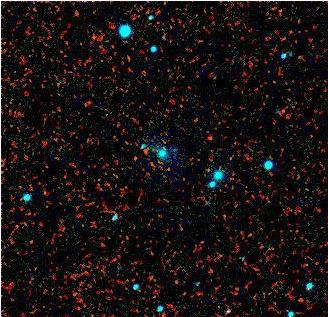star: (119, 139, 149, 169)
